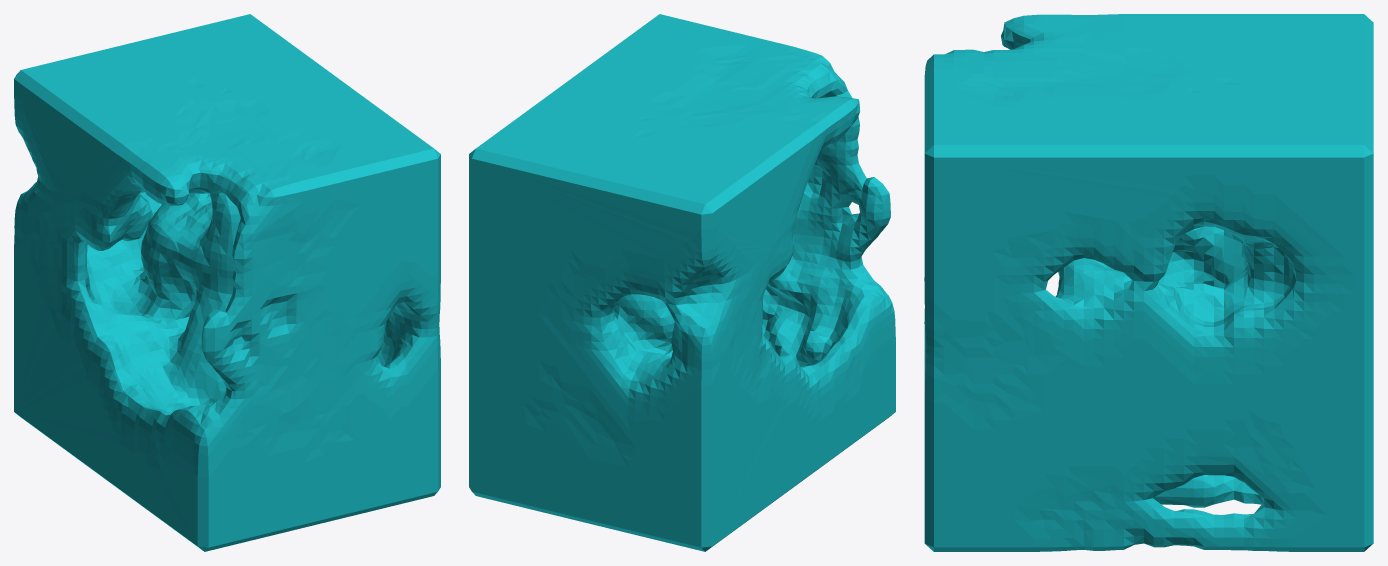
3 views of the same model, side by side, from view 1: azimuth 30°, elevation 25°; view 2: azimuth 150°, elevation 25°; view 3: azimuth 270°, elevation 25° (orthographic). The views are drawn at different scales.
Visible parts, largest first — view 1: Liquid_Domain; view 2: Liquid_Domain; view 3: Liquid_Domain.
Part boxes in pixels (x1,y1,x2,y2): Liquid_Domain: (14,14,440,551); Liquid_Domain: (469,14,895,551); Liquid_Domain: (924,14,1373,551).
Bounding box in the file's own units: 79.12 × 108 × 108.
